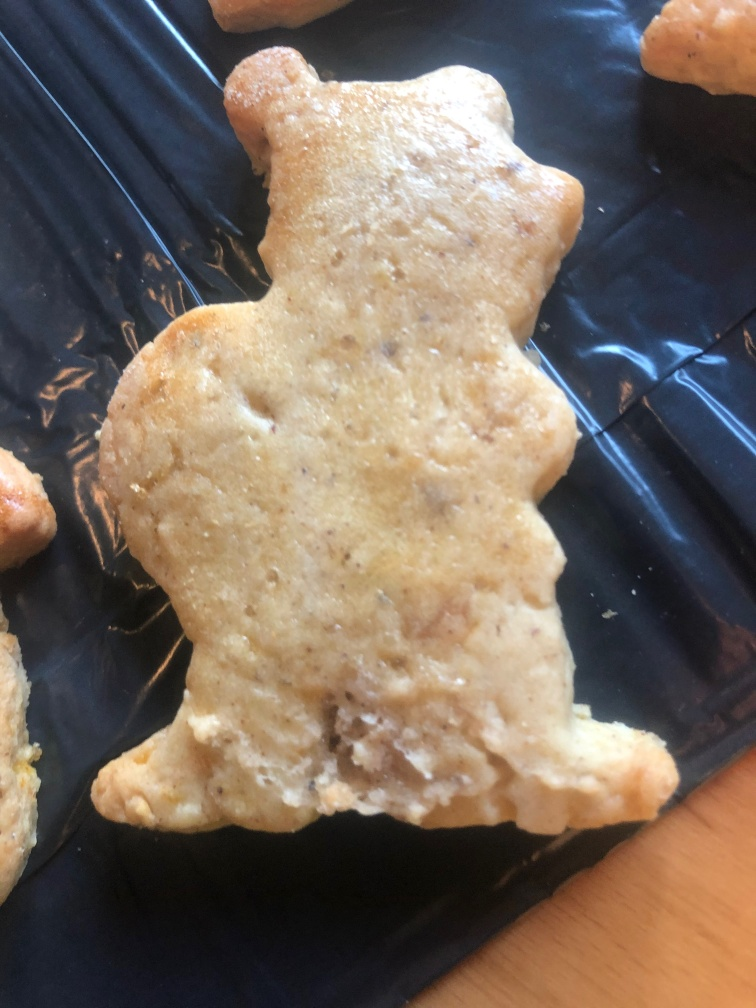santa claus: (94, 44, 680, 833)
